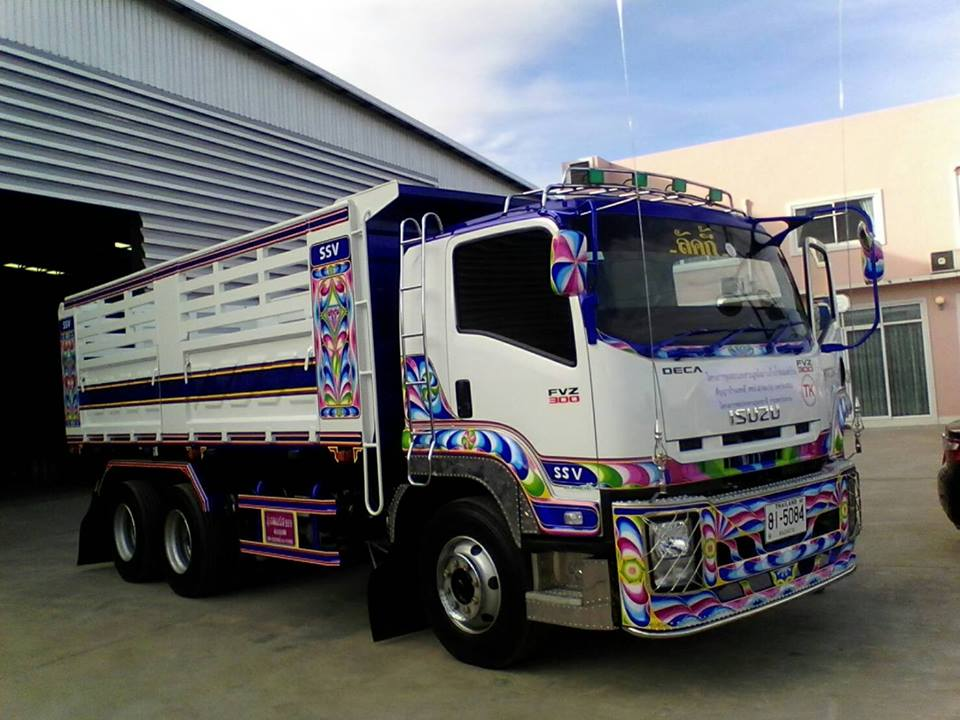truck: (313, 158, 864, 673)
